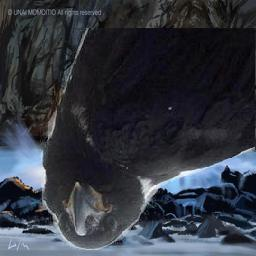Crow: (39, 28, 256, 250)
